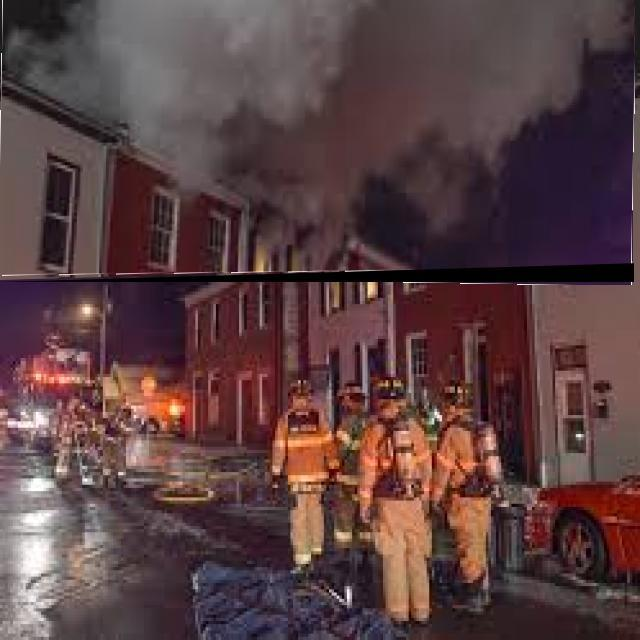smoke: (362, 4, 628, 241), (72, 3, 360, 204)
